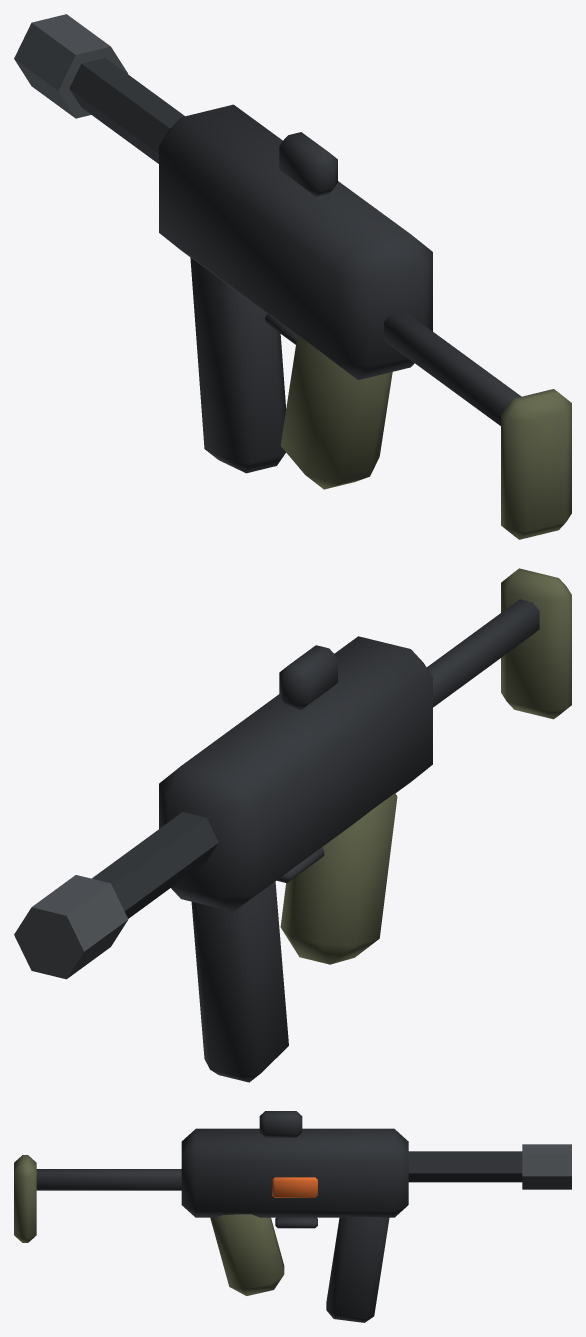
File: weapon_smg.glb
3 views of the same model, one above another, from view 1: azimuth 30°, elevation 25°; view 2: azimuth 150°, elevation 25°; view 3: azimuth 270°, elevation 25° (orthographic). The views are drawn at different scales.
Parts seen in each view (by area): view 1: weapon_smg; view 2: weapon_smg; view 3: weapon_smg.
Boxes of the visible parts, box(x1,y1,x2,y2) form: weapon_smg: box(14, 14, 571, 539); weapon_smg: box(14, 568, 571, 1082); weapon_smg: box(14, 1111, 571, 1322).
Bounding box in the file's own units: 0.06 × 0.2001 × 0.4912.
1 material, 1 textured.
